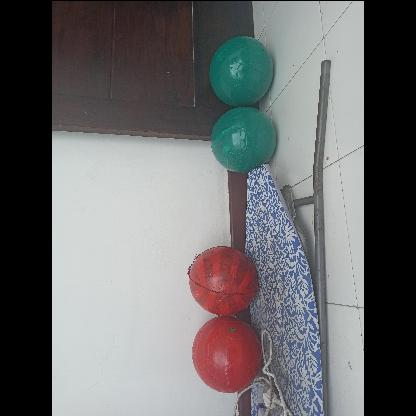red_ball: (191, 317, 261, 387), (186, 245, 254, 313)
